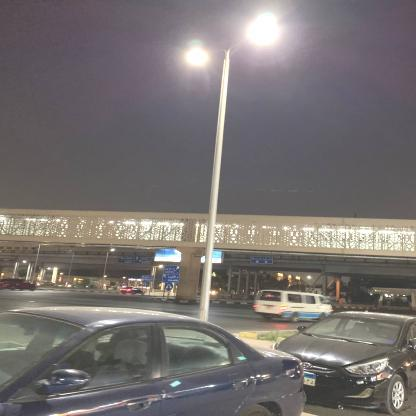light_pole: (188, 22, 276, 338), (99, 249, 117, 290), (307, 276, 316, 296)
